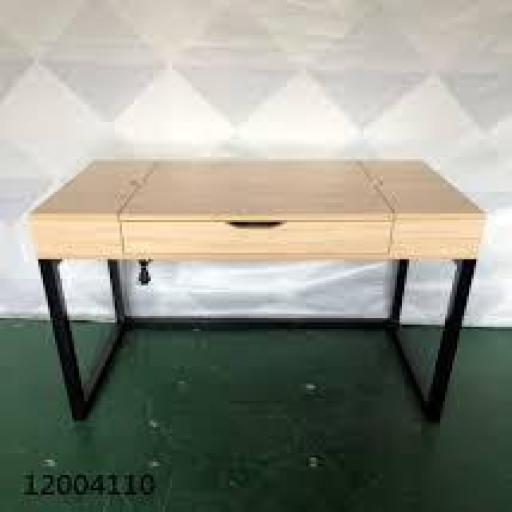table: (26, 118, 496, 446)
